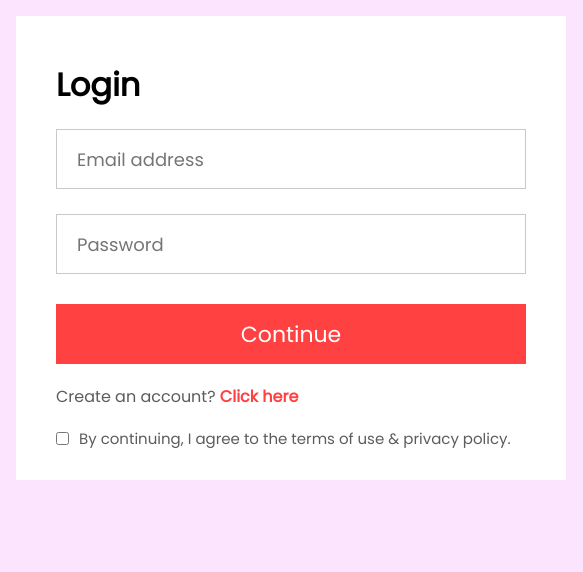
it: LoginSignup Component › validates password input
# Test invalid password
Type "weakpass" into the password field with placeholder "Password" at (291, 244), box [56,214,526,274]
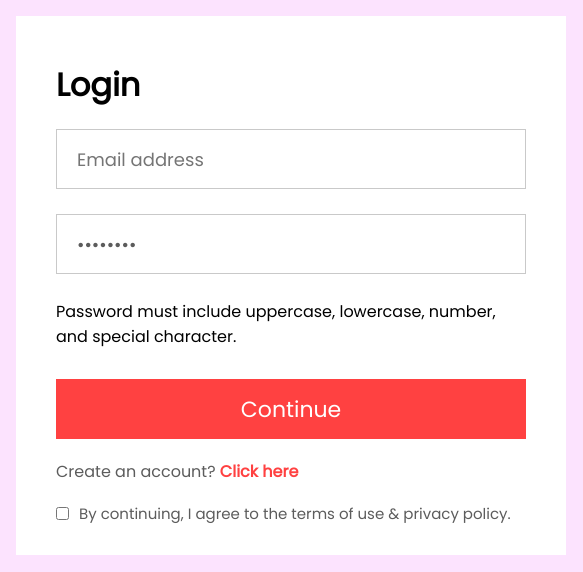
Check: the text "Password must include uppercase, lowercase, number, and special character." is shown, box [56,299,526,349]
# Test valid password
Type "Strong@123" into the password field with placeholder "Password" at (291, 244), box [56,214,526,274]
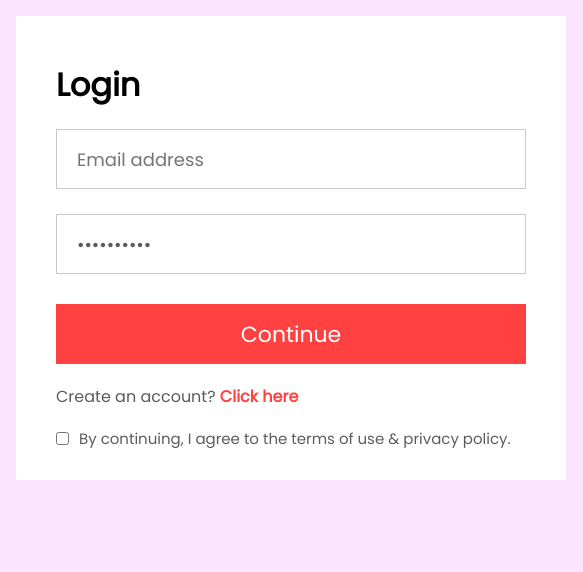
Check: the text "Password must include uppercase, lowercase, number, and special character." is gone
